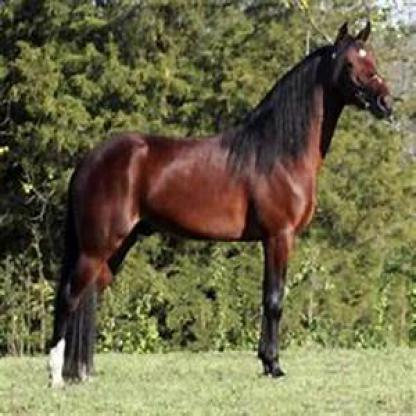horse: (52, 19, 396, 385)
